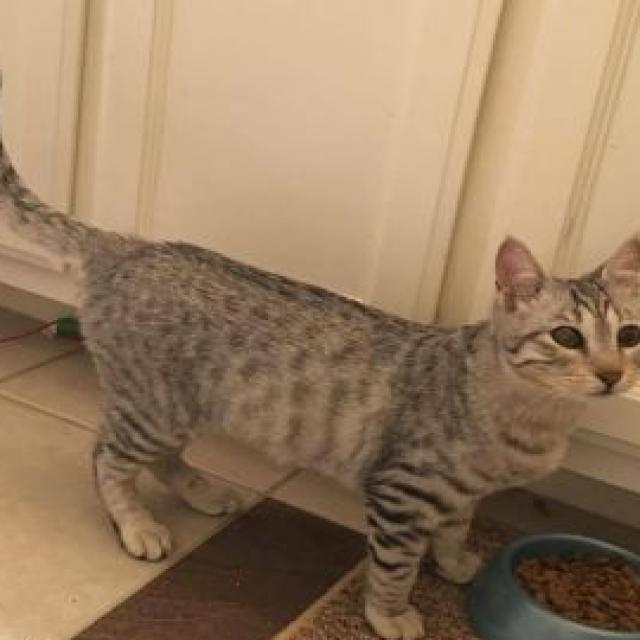Egyptian Mau: (0, 39, 640, 640)
